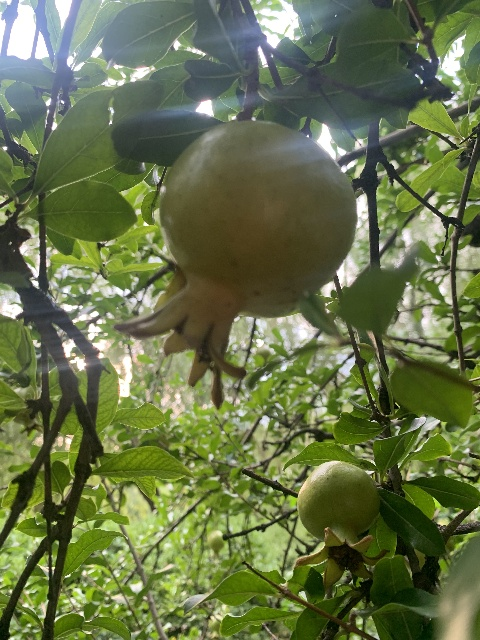mid-growth: (113, 120, 358, 386), (293, 461, 390, 593), (206, 530, 225, 559)
